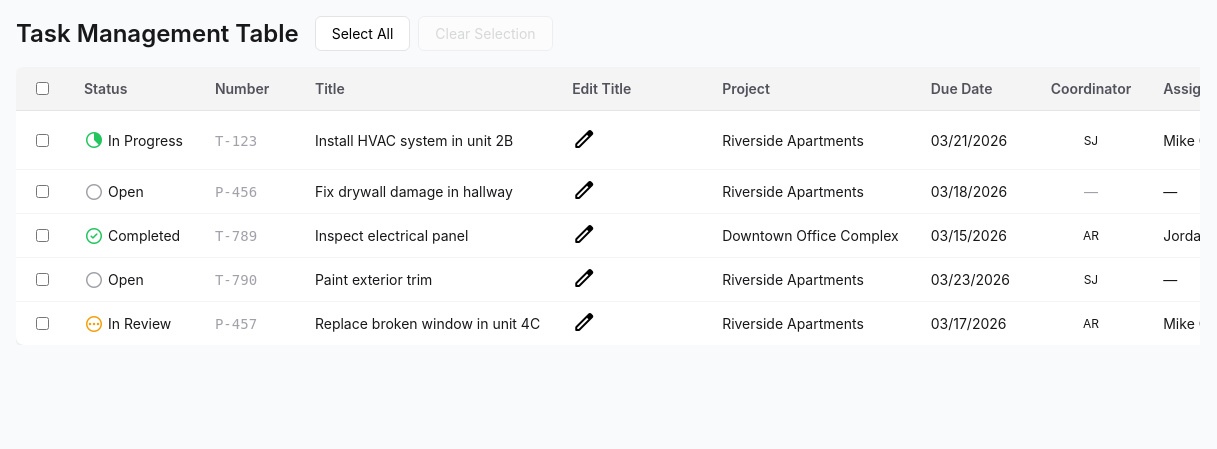
Scenario: App.svelte › header checkbox becomes checked when all selected
Click the button "Select All": (363, 34) 315,16 -> 410,51
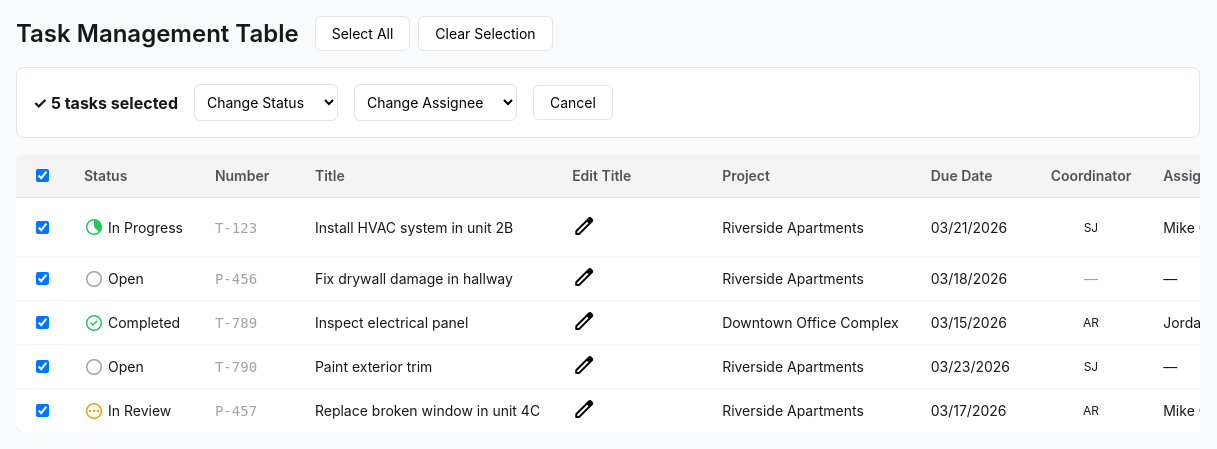
expect the 1st checkbox is checked: met, box 36,169 -> 49,182
